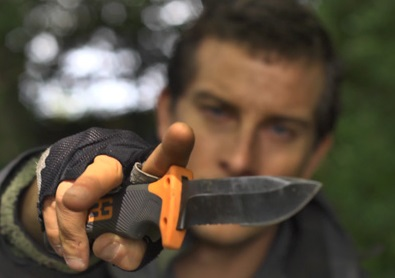knife: (64, 164, 338, 247)
